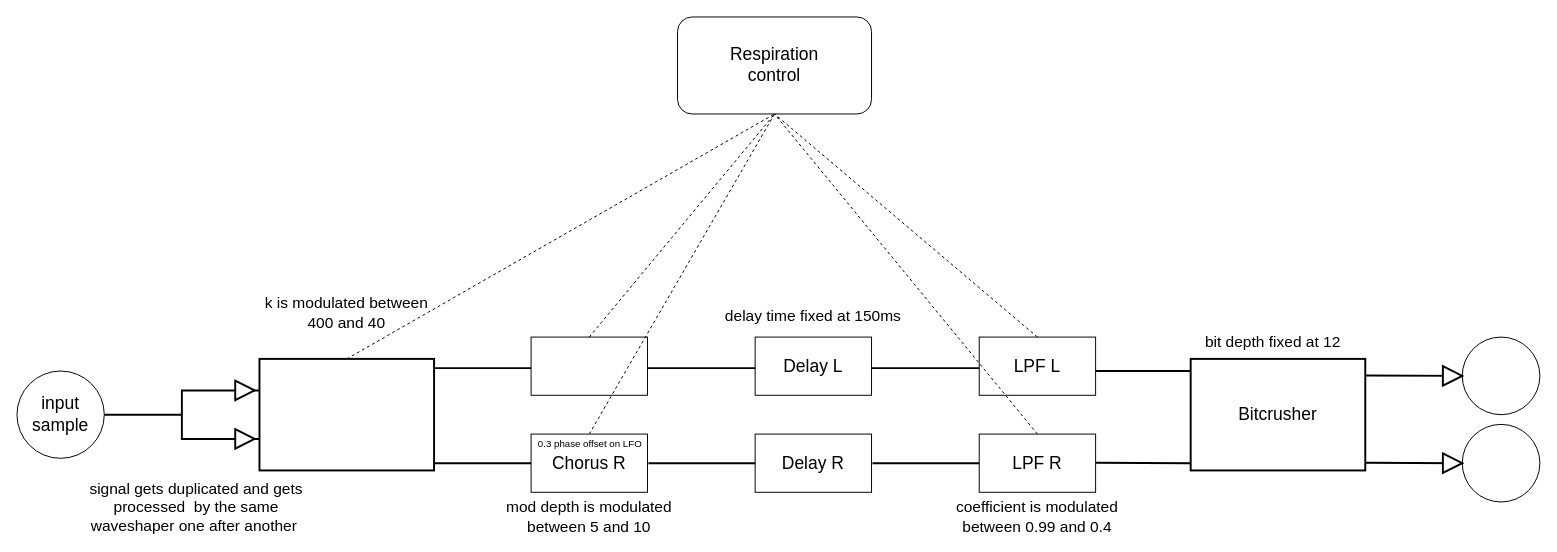
Image size: 1557x552. Some labels were removed from this diagram. Here are the shapes that lost their labels. From the top down, the box of each, then its label:
(530, 336, 647, 395): Chorus L
(1461, 336, 1540, 415): output L
(258, 357, 435, 471): Waveshaper
(1461, 423, 1540, 502): output R
